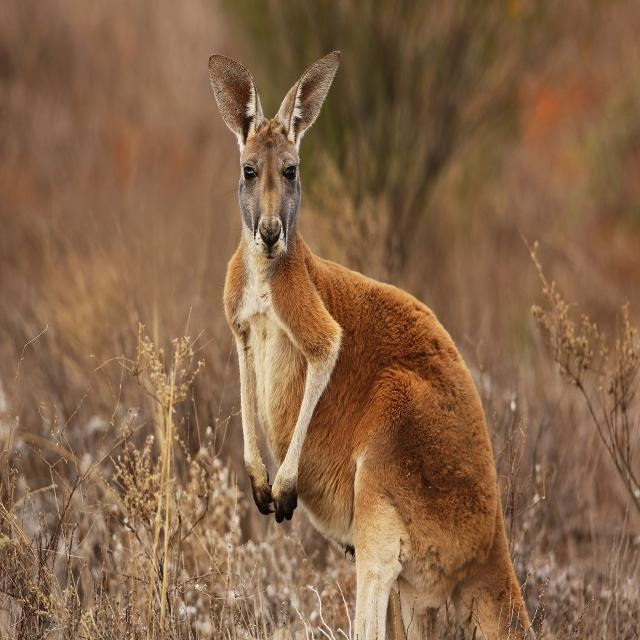Kangaroo: (206, 36, 556, 640)
